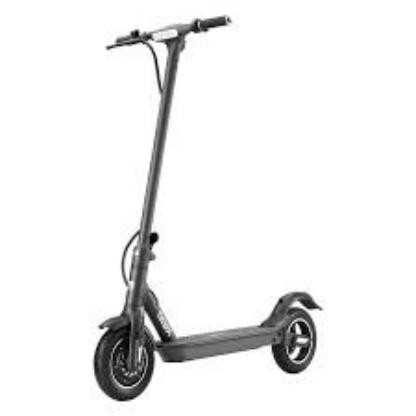bike: (92, 11, 325, 402), (93, 230, 325, 402)
